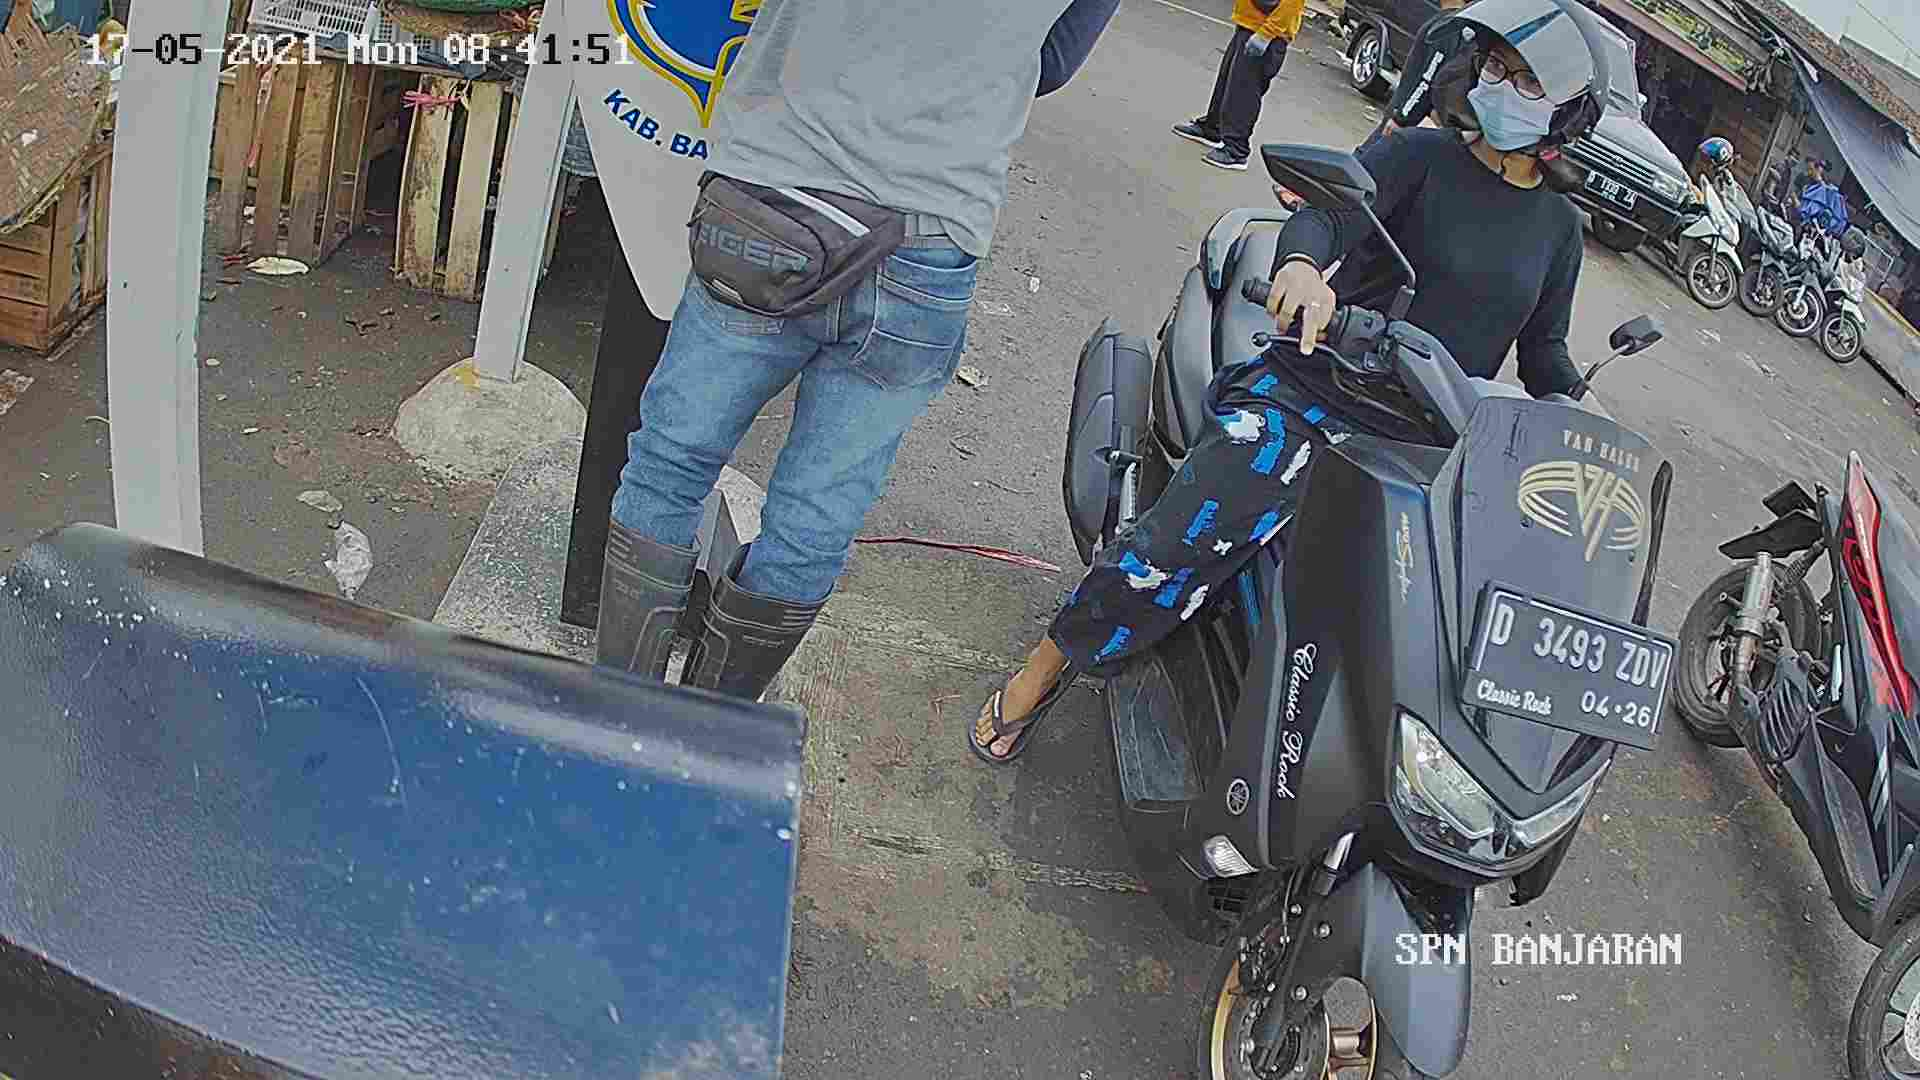motor: (1060, 190, 1671, 1077)
